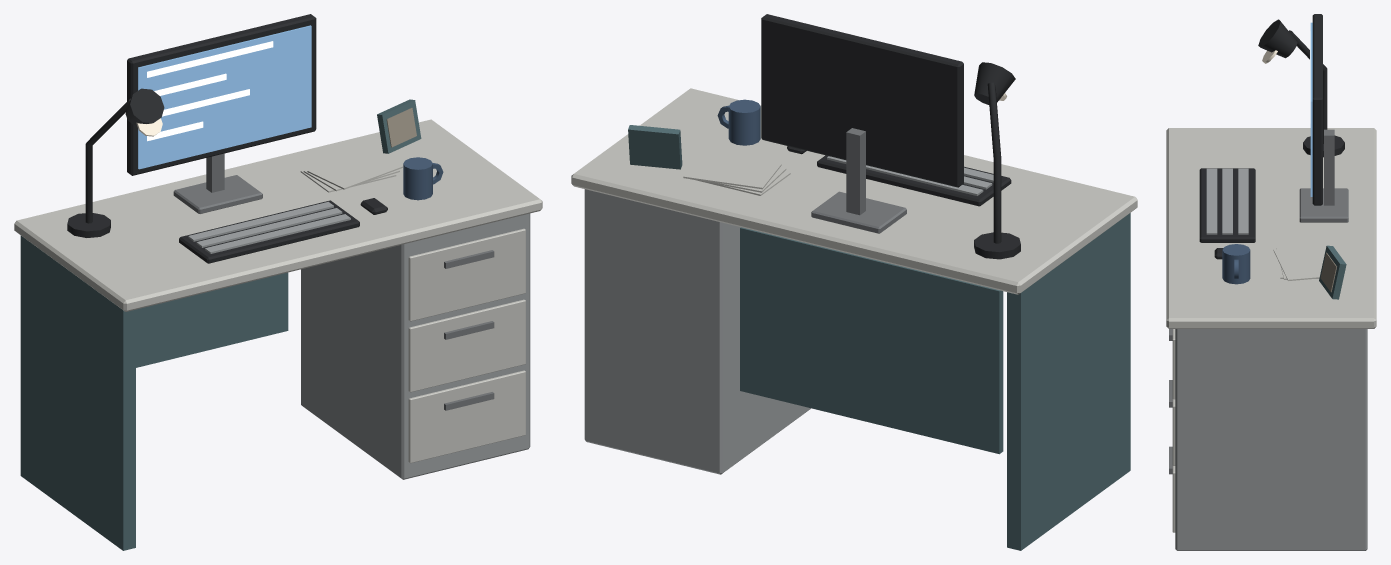
File: astro_monitor_desk.fbx
The picture shows the model from 3 angles, left to right: view 1: azimuth 30°, elevation 25°; view 2: azimuth 150°, elevation 25°; view 3: azimuth 270°, elevation 25°; orthographic projection. The views are drawn at different scales.
Visible parts, largest first — view 1: MonitorDesk_Body; view 2: MonitorDesk_Body; view 3: MonitorDesk_Body.
Boxes of the visible parts, x1,y1,x2,y2 form: MonitorDesk_Body: (14,14,542,550); MonitorDesk_Body: (571,14,1137,550); MonitorDesk_Body: (1166,14,1376,550).
Bounding box in the file's own units: 260 × 246 × 120.
